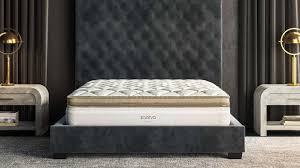bed-matress: (64, 76, 233, 127)
